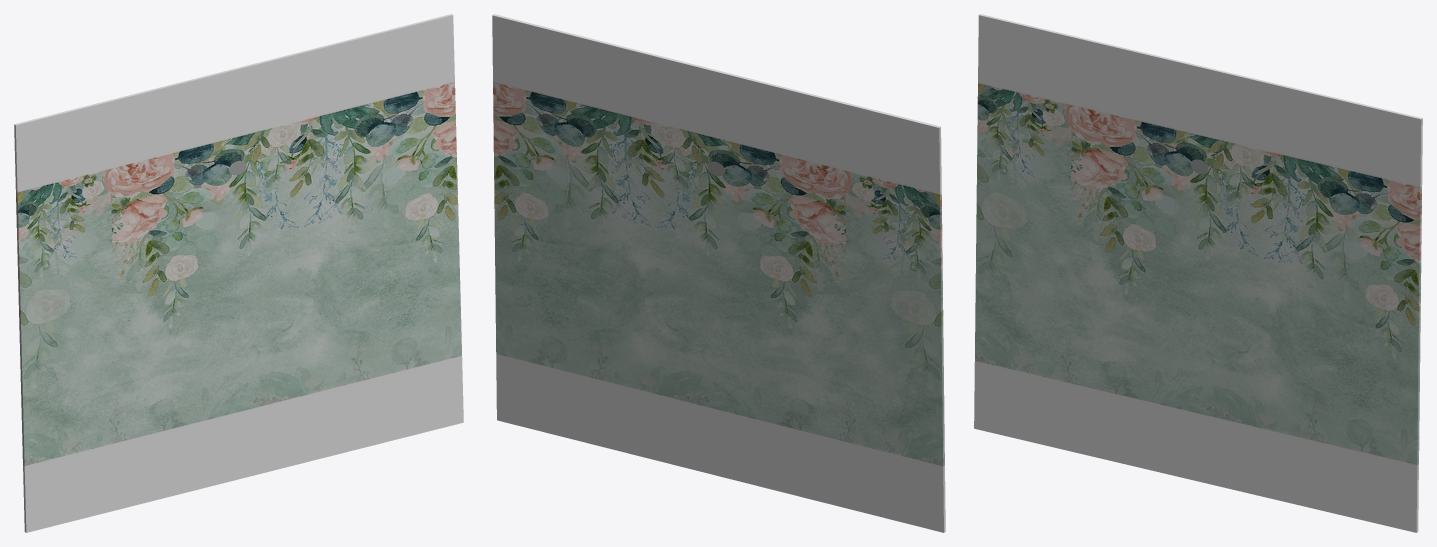
The picture shows the model from 3 angles, left to right: view 1: azimuth 30°, elevation 25°; view 2: azimuth 150°, elevation 25°; view 3: azimuth 330°, elevation 25°; orthographic projection. The views are drawn at different scales.
Parts seen in each view (by area): view 1: Mesh_0.001; view 2: Mesh_0.001; view 3: Mesh_0.001.
Part boxes in pixels (<box>): Mesh_0.001: <box>14,14,463,532</box>; Mesh_0.001: <box>492,14,945,532</box>; Mesh_0.001: <box>974,14,1422,532</box>.
Size of the model in its own units: 2.29 by 2.02 by 0.0841.
1 material, 1 textured.
